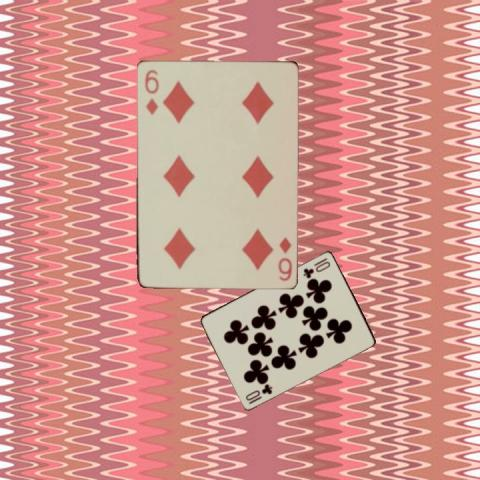10c: (300, 255, 332, 279), (243, 381, 273, 405)
6d: (275, 234, 294, 282), (142, 67, 160, 116)
